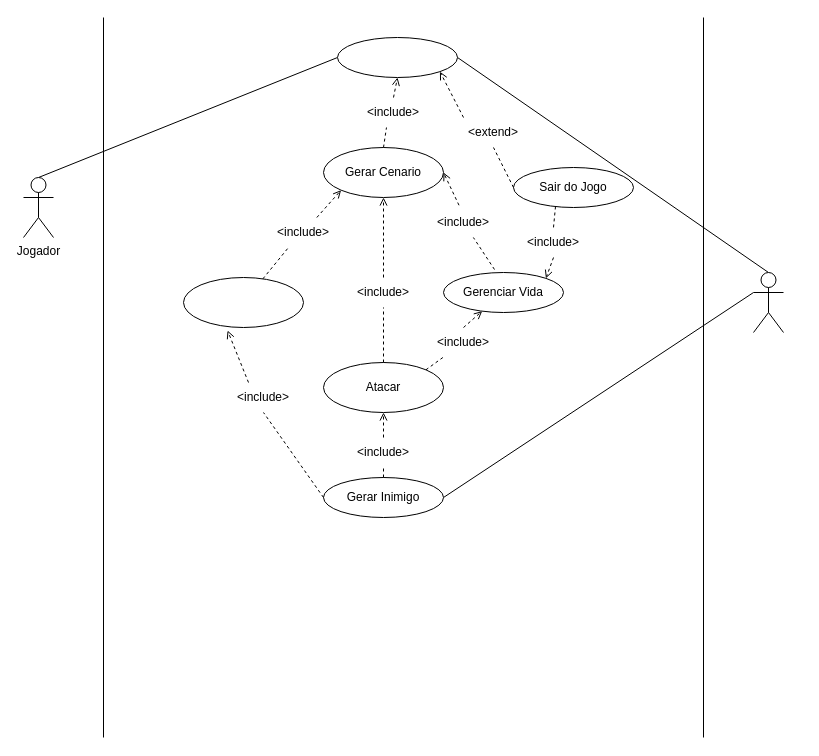
The diagram is 819 pixels wide and 756 high, and some of its shapes have lost their labels. The shapes that lost their labels are listed below. From the top down, each one's centre as x and y in pixels, then its label:
At (x=397, y=57): "Iniciar Jogo".
At (x=243, y=302): "Movimentar".
At (x=768, y=302): "Computador".
